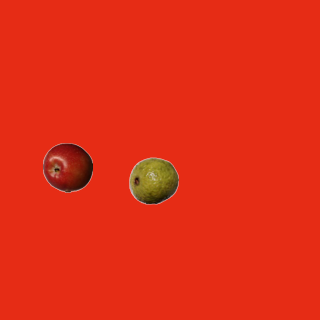Apple Braeburn: (42, 142, 92, 192)
Guava: (128, 155, 178, 205)
